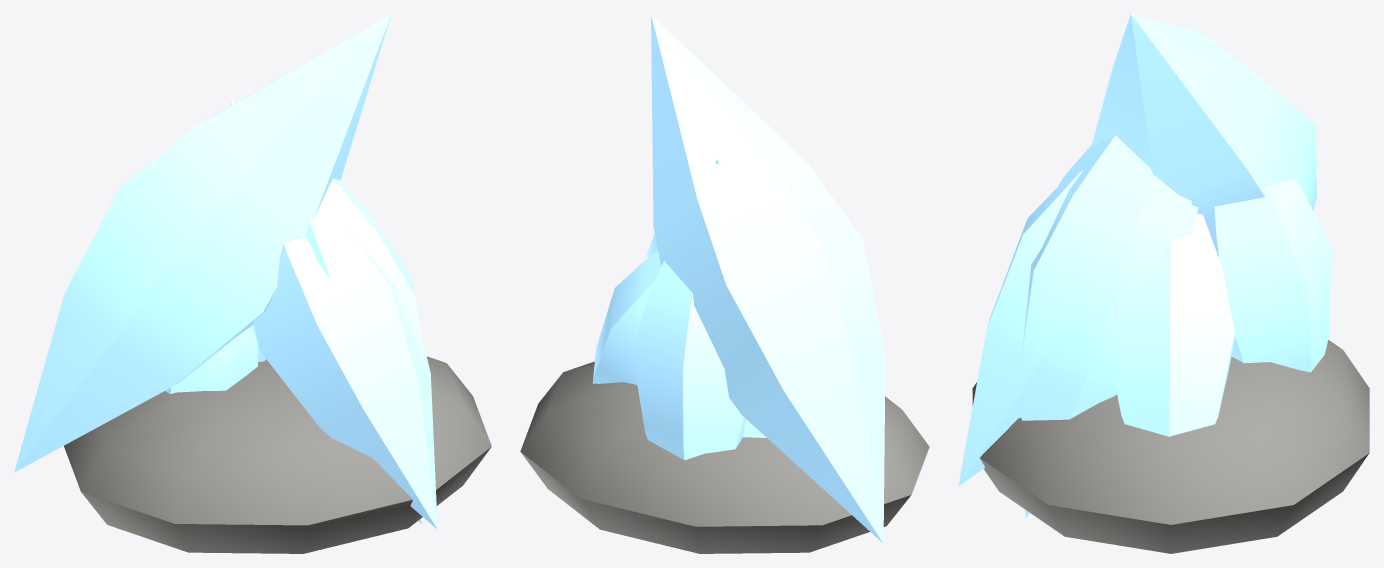
Rendered from frost_crystal.glb.
3 views of the same model, side by side, from view 1: azimuth 30°, elevation 25°; view 2: azimuth 150°, elevation 25°; view 3: azimuth 270°, elevation 25° (orthographic). The views are drawn at different scales.
Visible parts, largest first — view 1: frost_crystal; view 2: frost_crystal; view 3: frost_crystal.
Part boxes in pixels (x1,y1,x2,y2): frost_crystal: (14, 14, 491, 553); frost_crystal: (520, 14, 929, 553); frost_crystal: (958, 14, 1369, 553).
Bounding box in the file's own units: 0.0953 × 0.1106 × 0.0759.
